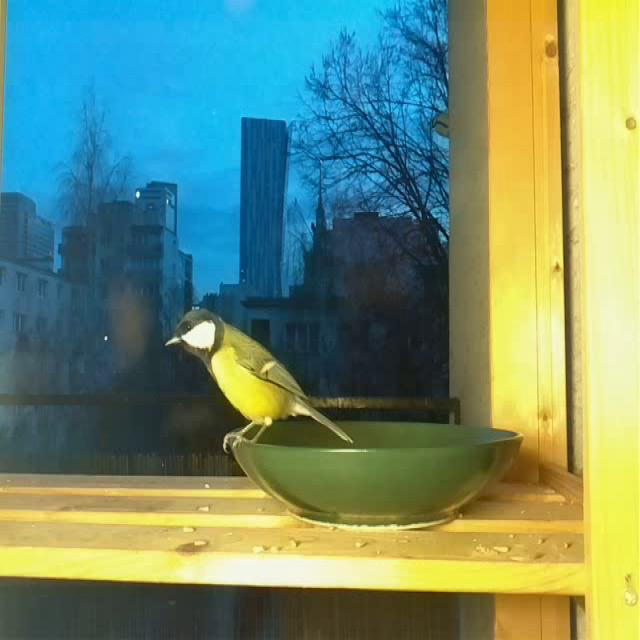Bogatka: (162, 307, 354, 448)
